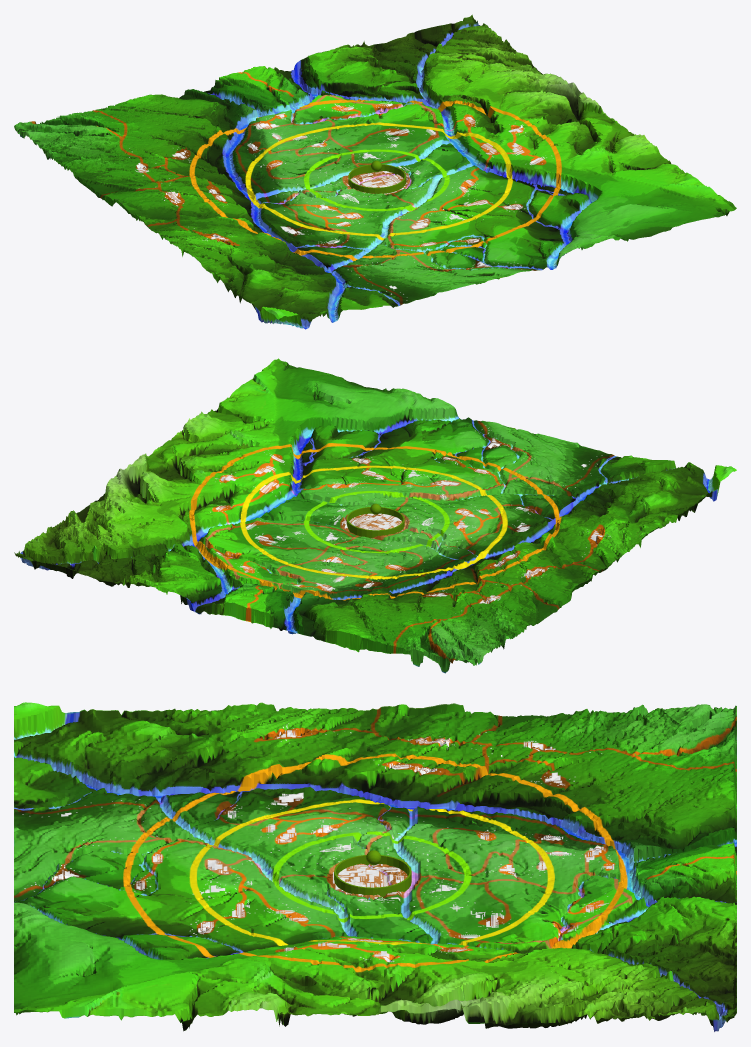
File: mapa3d.glb
The picture shows the model from 3 angles, top to bottom: view 1: azimuth 30°, elevation 25°; view 2: azimuth 150°, elevation 25°; view 3: azimuth 270°, elevation 25°; orthographic projection. The views are drawn at different scales.
Parts seen in each view (by area): view 1: Plano.001, Cilindro; view 2: Plano.001, Cilindro; view 3: Plano.001, Cilindro.
Boxes of the visible parts, left/top/right/bottom form: Plano.001: left=14, top=14, right=736, bottom=329; Cilindro: left=348, top=164, right=406, bottom=193; Plano.001: left=14, top=358, right=736, bottom=673; Cilindro: left=346, top=507, right=404, bottom=538; Plano.001: left=14, top=702, right=736, bottom=1031; Cilindro: left=334, top=855, right=411, bottom=897.
Bounding box in the file's own units: 2 × 0.1055 × 2.
2 materials, 1 textured.
